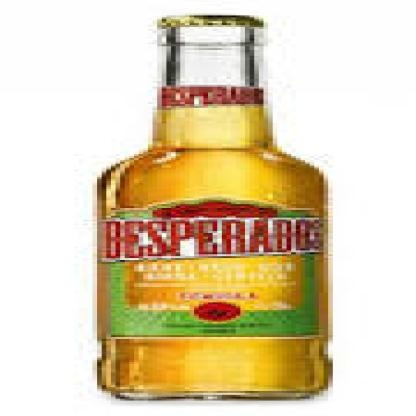trash: (97, 15, 330, 397)
